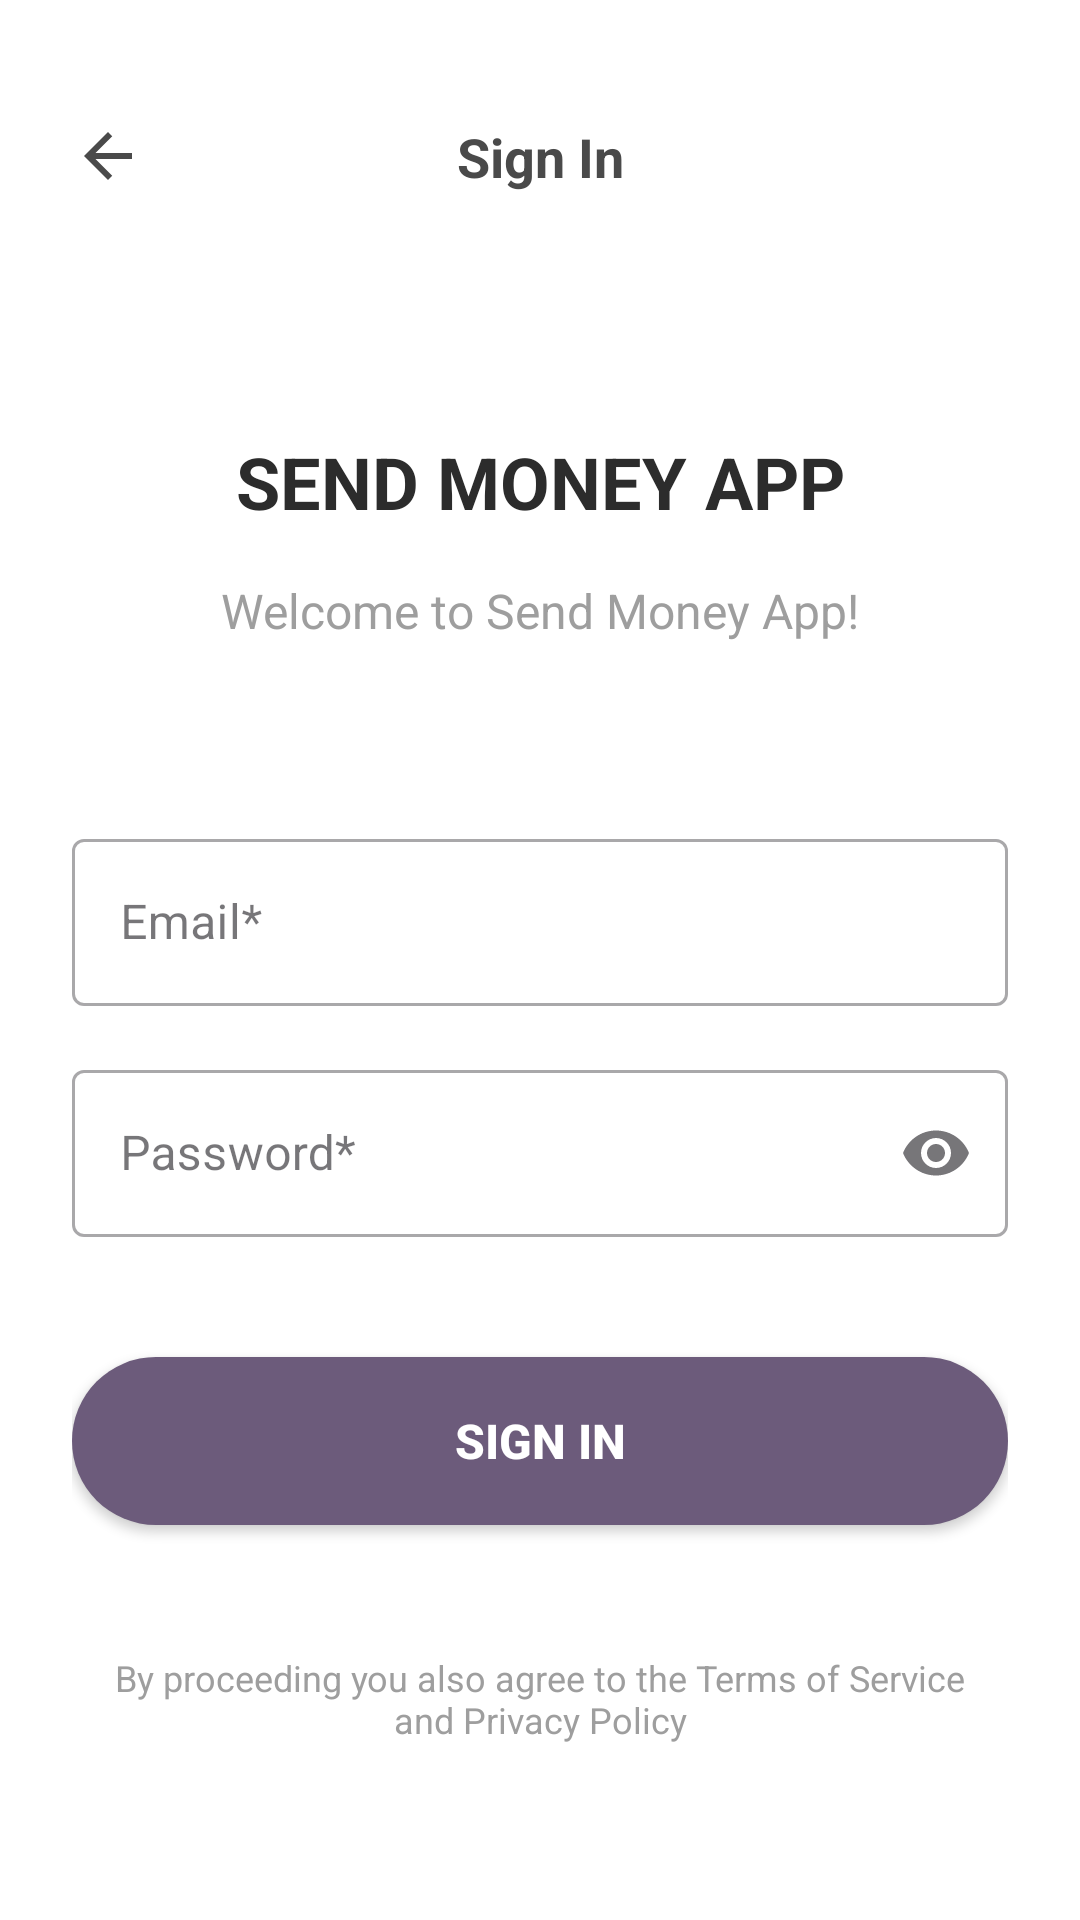

Screen size 1080x1920. Icon name, then its center in pixels as [x,y]:
Back: [108,156]
